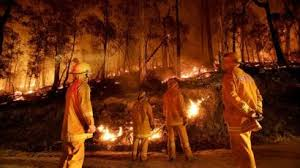fire: (96, 120, 126, 147), (180, 64, 211, 80), (184, 98, 205, 119)
smoke: (178, 3, 209, 59)
